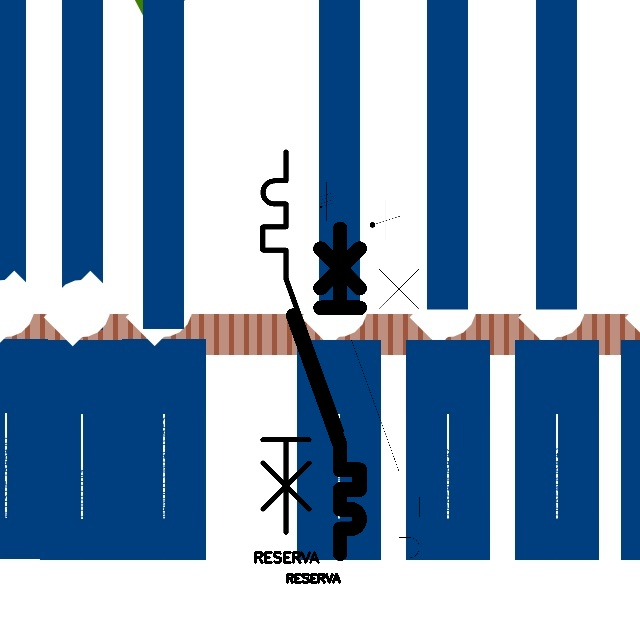interruptor_termomagnetico: (253, 142, 351, 541), (342, 239, 428, 591), (285, 220, 368, 562)
